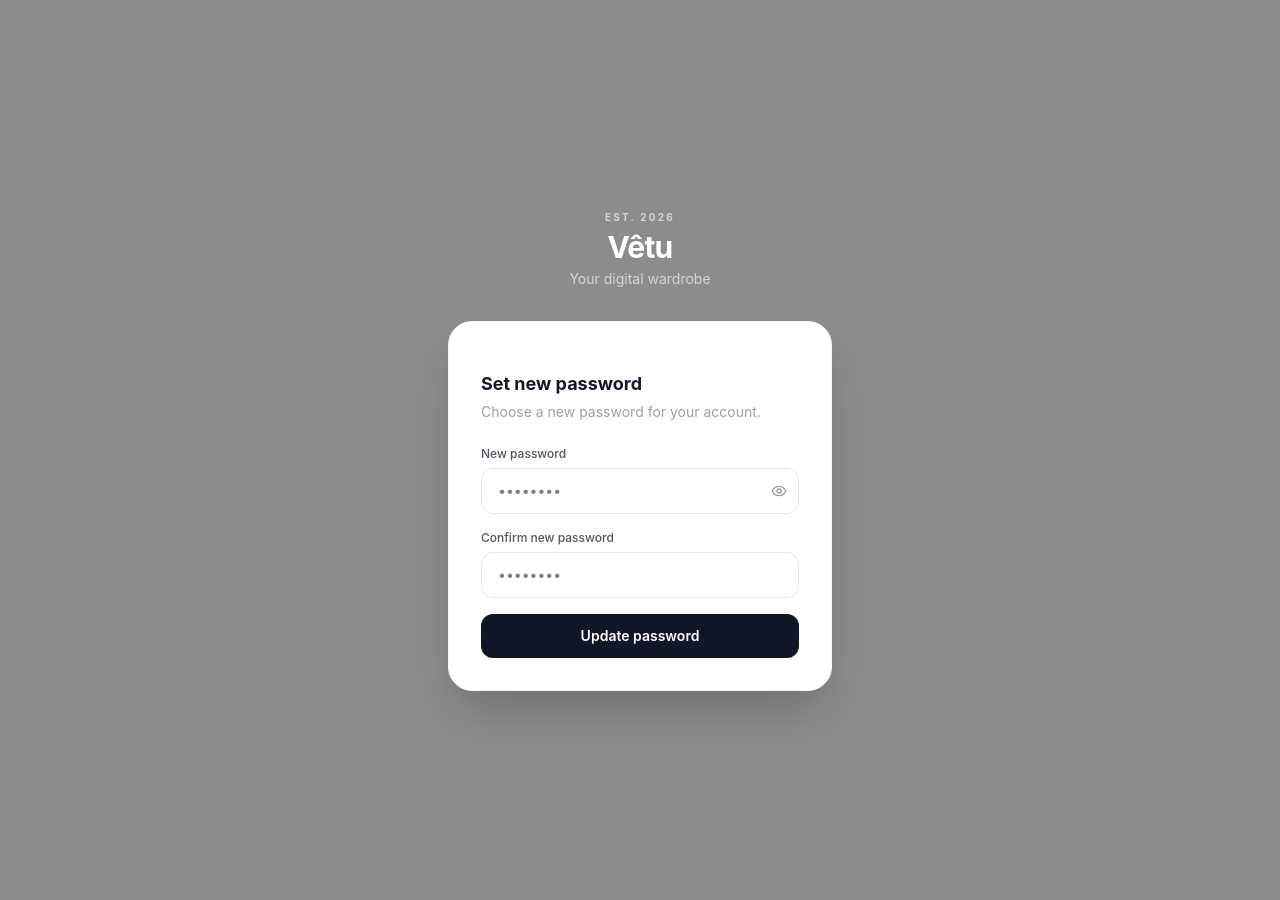
it: AuthModal — recovery mode client-side validation › shows an error when new password is shorter than 8 characters
Type "short" into the 1st password field with placeholder "••••••••".
click(640, 490); type("short")  # box [481,468,799,514]
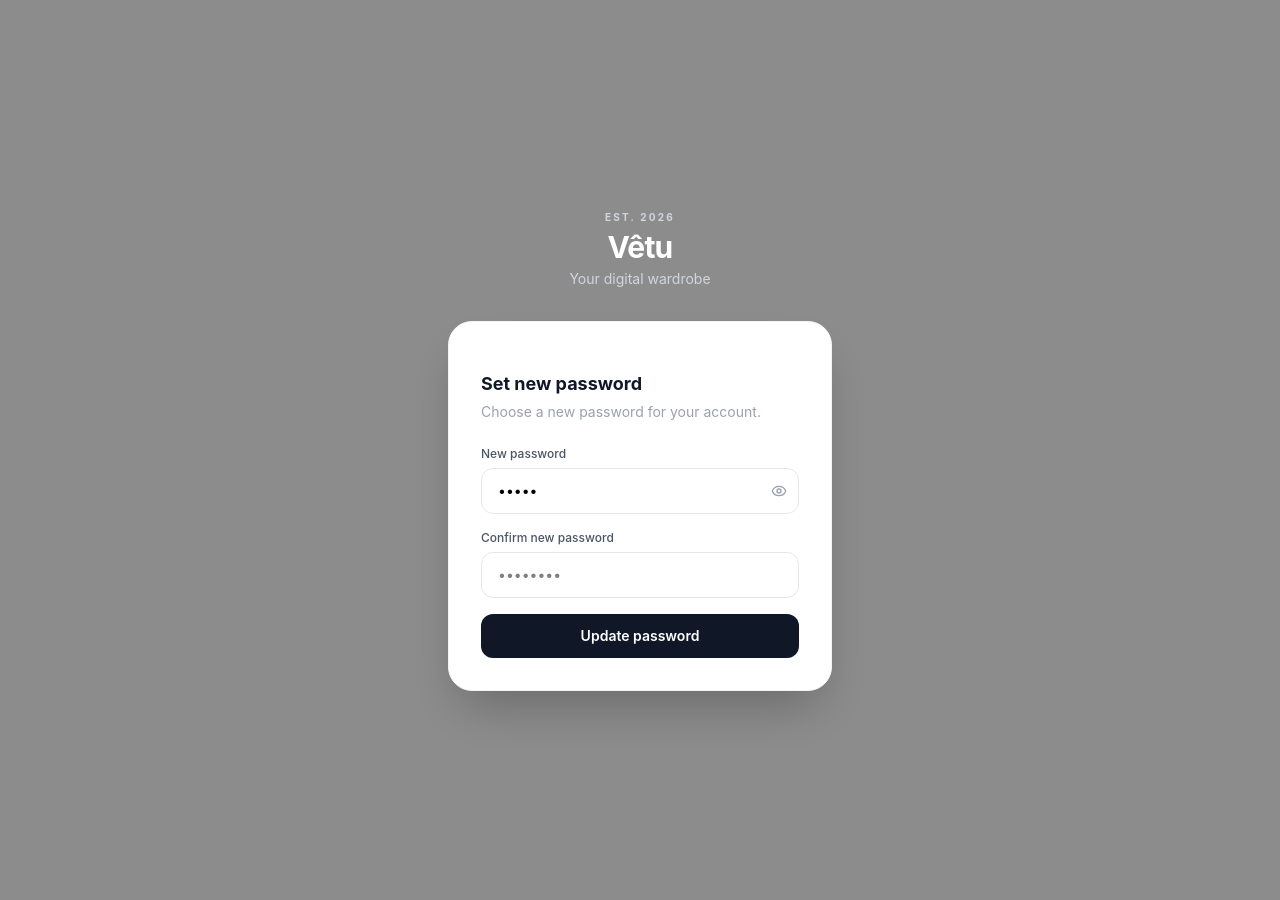
Type "short" into the password field with placeholder "••••••••".
click(640, 574); type("short")  # box [481,552,799,598]
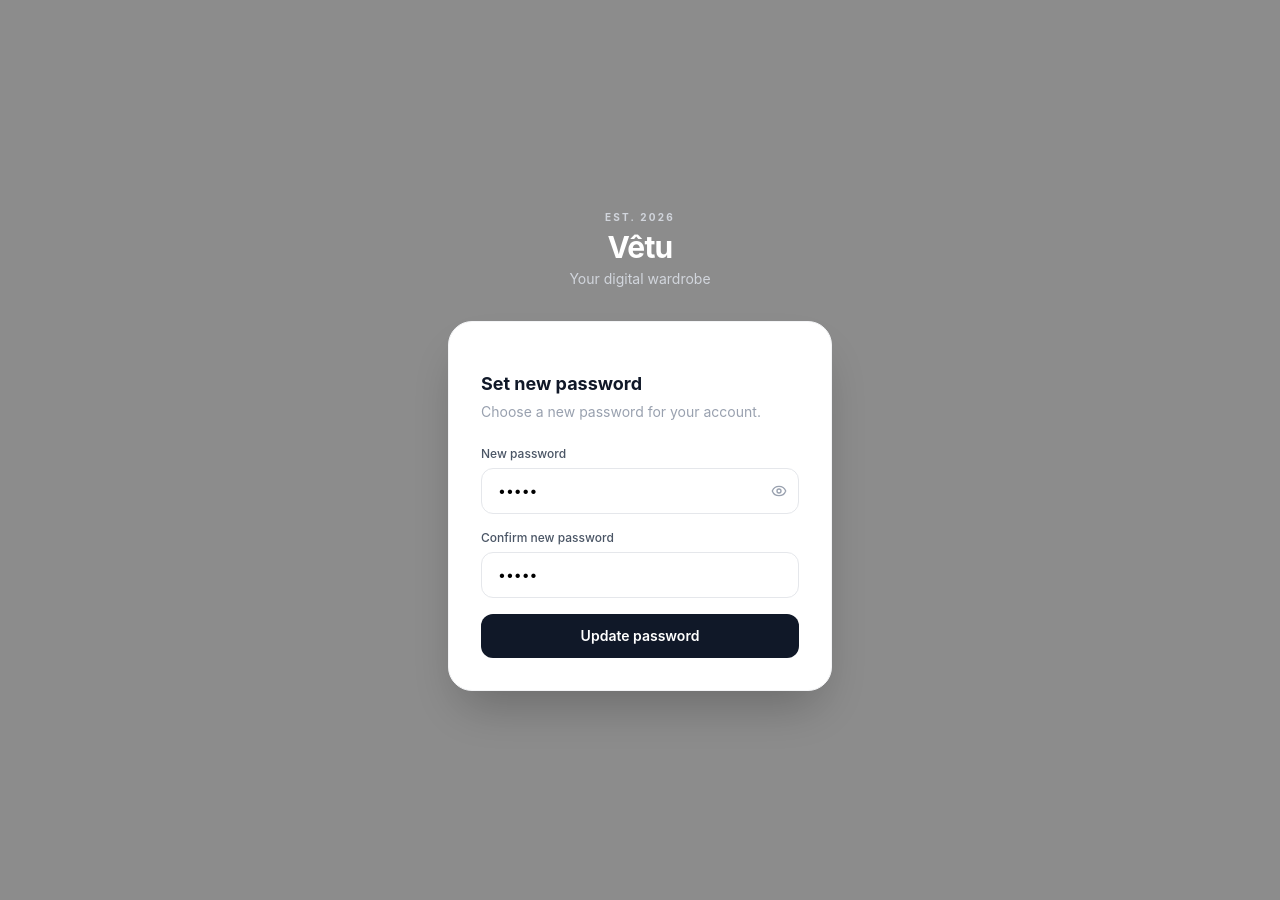
Submit the form with placeholder "••••••••", box [481,446,799,658]
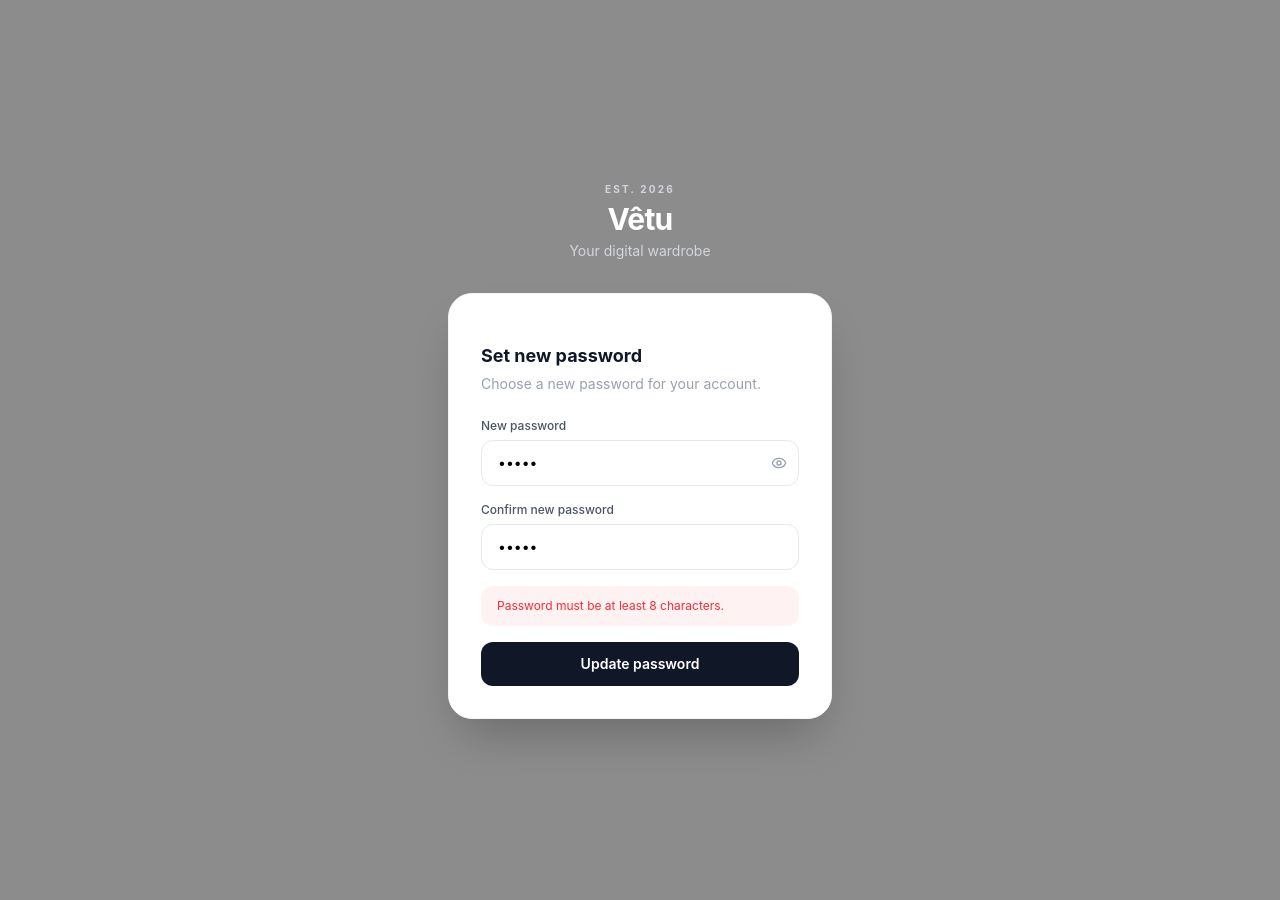
Result: the text "Password must be at least 8 characters." is shown at [481,586,799,626]
